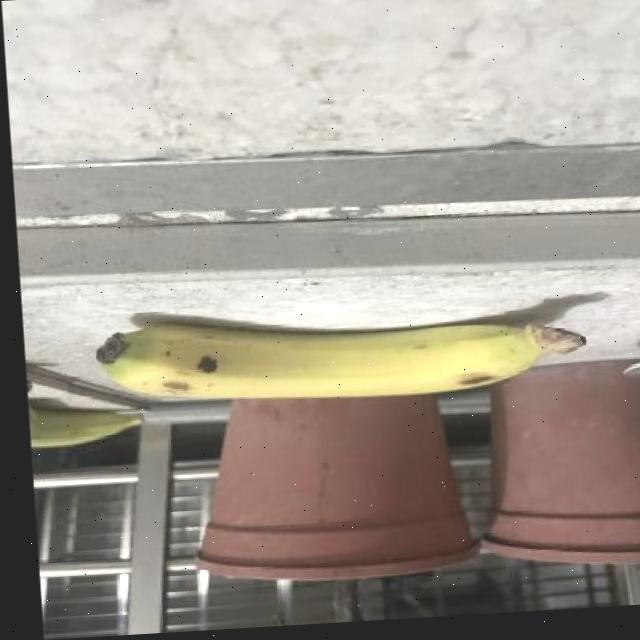banana: (90, 290, 595, 421)
